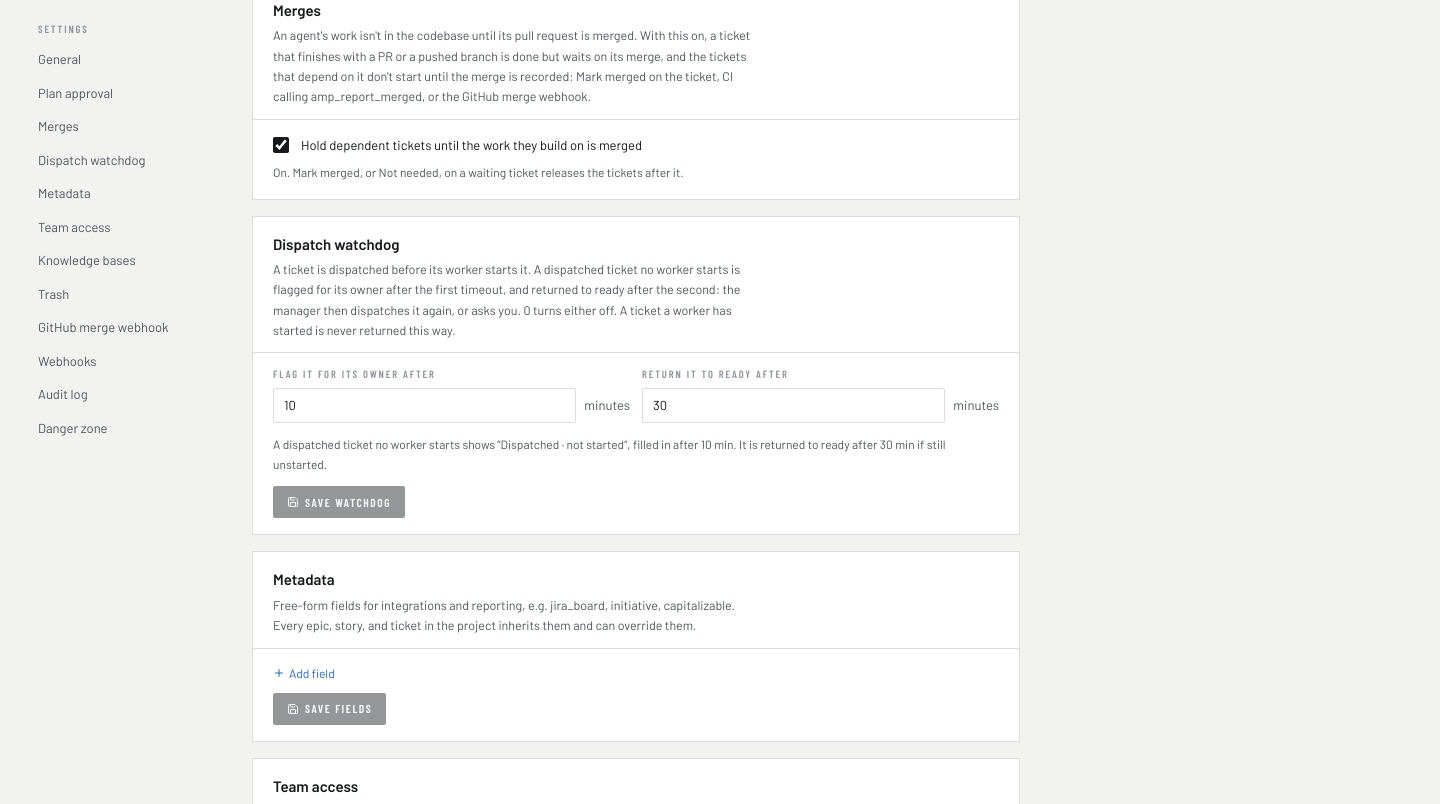
Test case: ProjectSettings dispatch watchdog › warns when the return timeout is not above the flag, so nothing is ever flagged
(page scrolled)
Replace the text in the field labelled "Flag it for its owner after" with "40" at (425, 406), box x1=273 y1=388 x2=576 y2=423
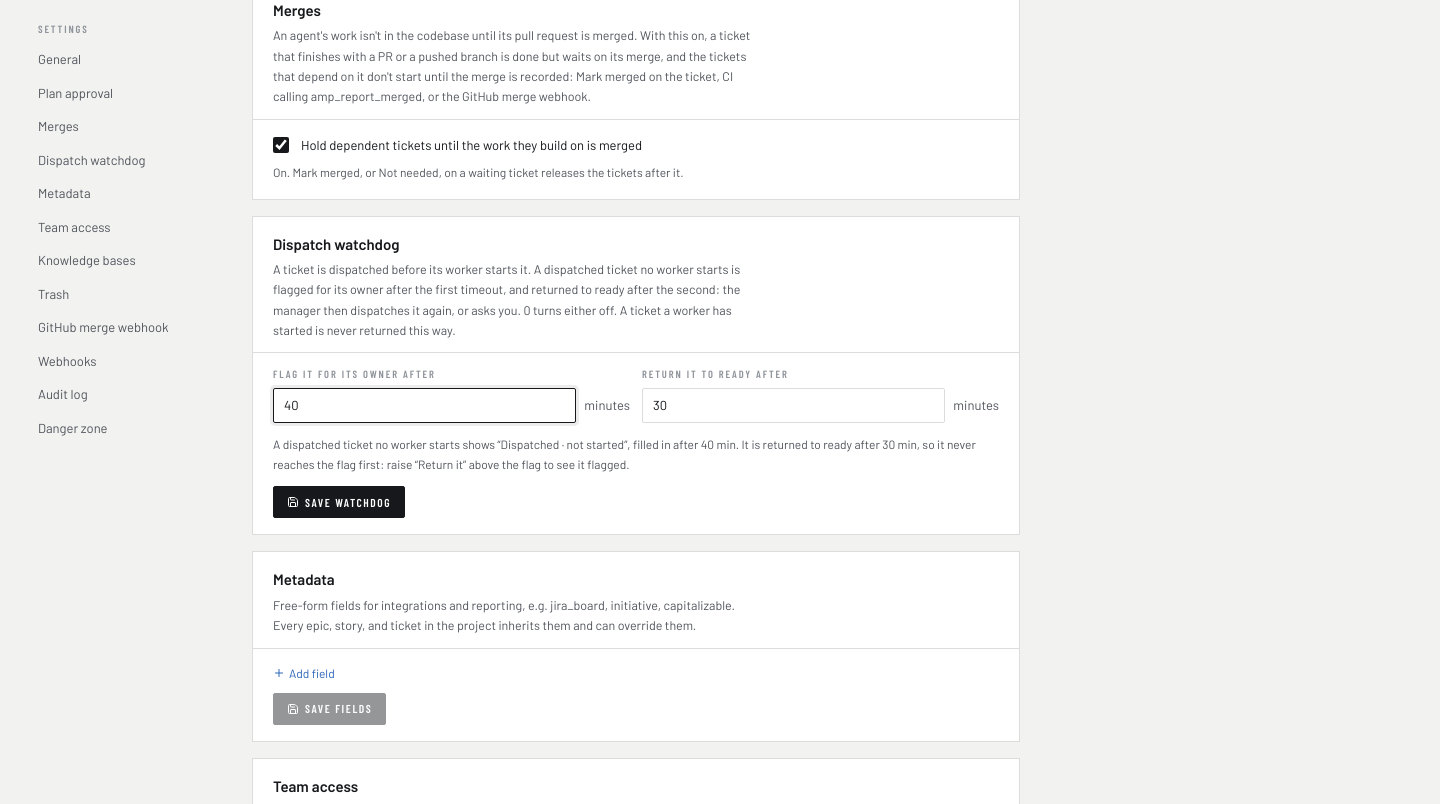
Now the text "never reaches the flag first" is shown, box x1=273 y1=437 x2=976 y2=471
